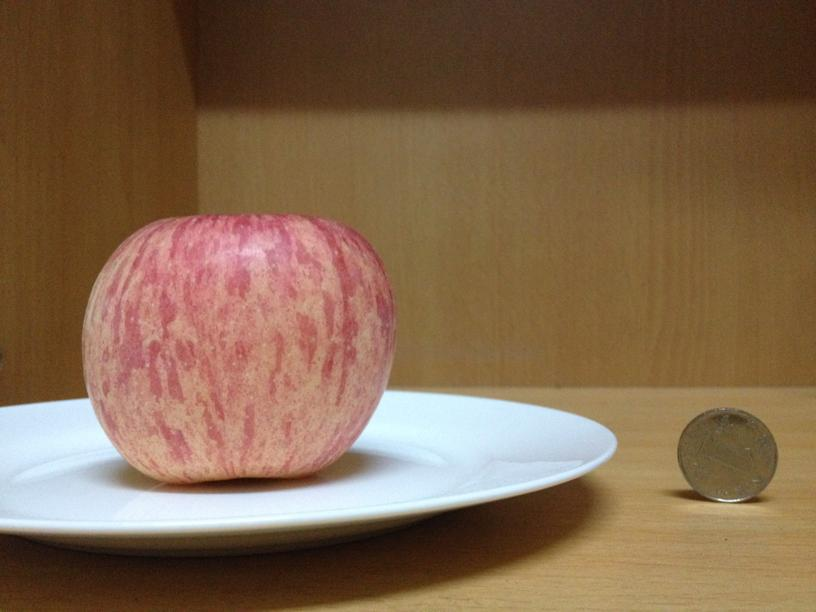apple: (75, 214, 397, 485)
coin: (677, 404, 776, 502)
